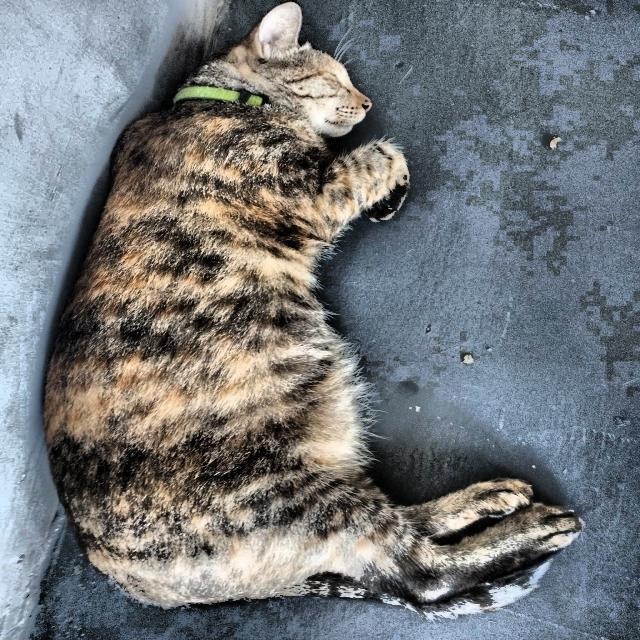Healthy skin: (116, 276, 298, 468), (163, 123, 354, 224)
